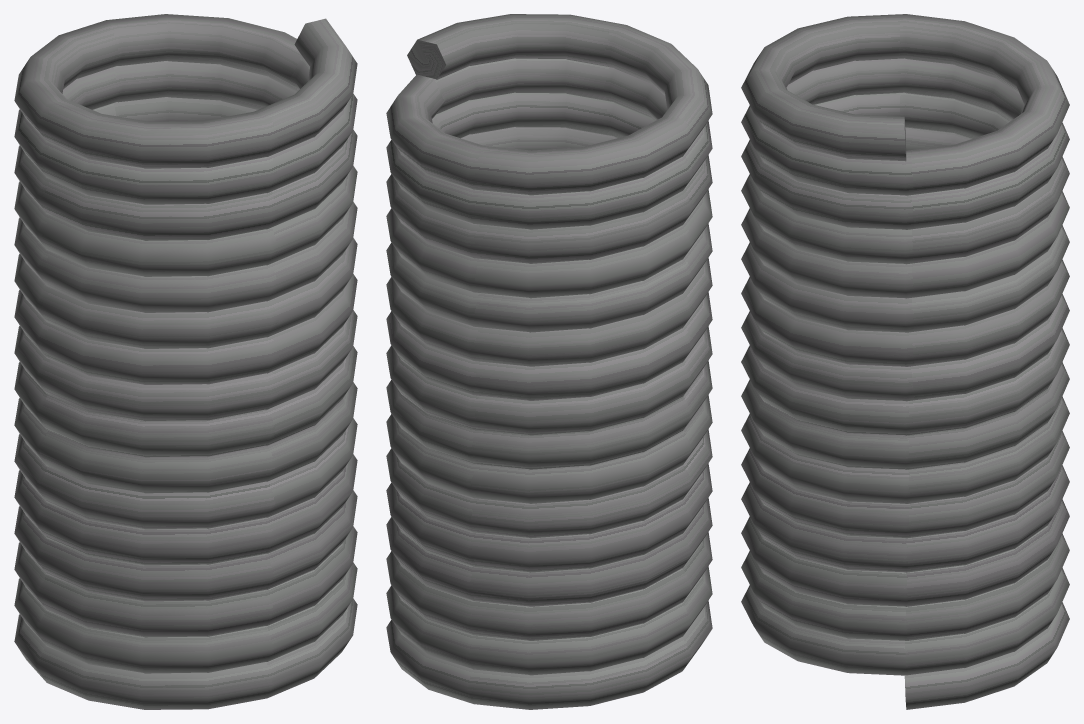
File: Test_Weapon_Spring_Spring02.glb
3 renders of one model, left to right at view 1: azimuth 30°, elevation 25°; view 2: azimuth 150°, elevation 25°; view 3: azimuth 270°, elevation 25°, orthographic. The views are drawn at different scales.
Parts seen in each view (by area): view 1: Spring02; view 2: Spring02; view 3: Spring02.
Boxes of the visible parts, bbox=[...] form: Spring02: bbox=[14, 14, 357, 709]; Spring02: bbox=[386, 14, 712, 709]; Spring02: bbox=[741, 14, 1069, 709].
Size of the model in its own units: 0.174 by 0.3408 by 0.174.
Materials: 1 (1 with a texture image).
